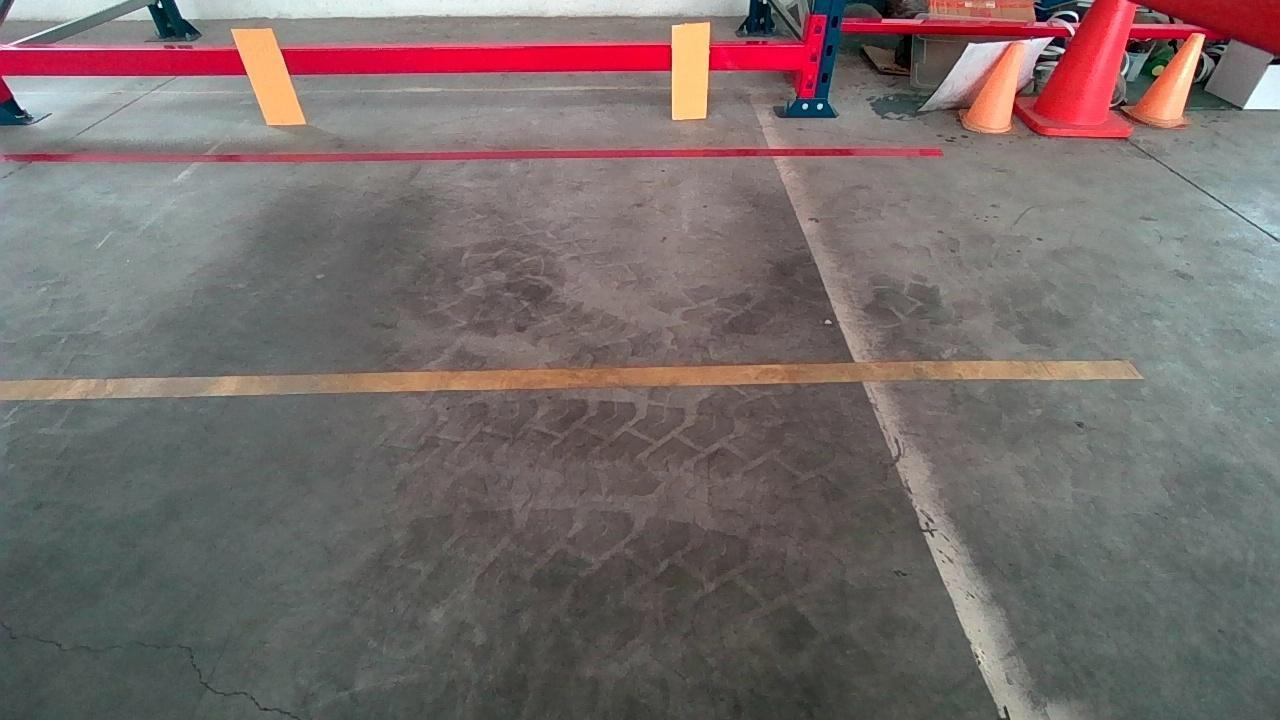orange_strip: (232, 26, 305, 123), (672, 25, 709, 117)
red_line: (0, 149, 944, 163)
yellow_line: (0, 361, 1142, 397)
